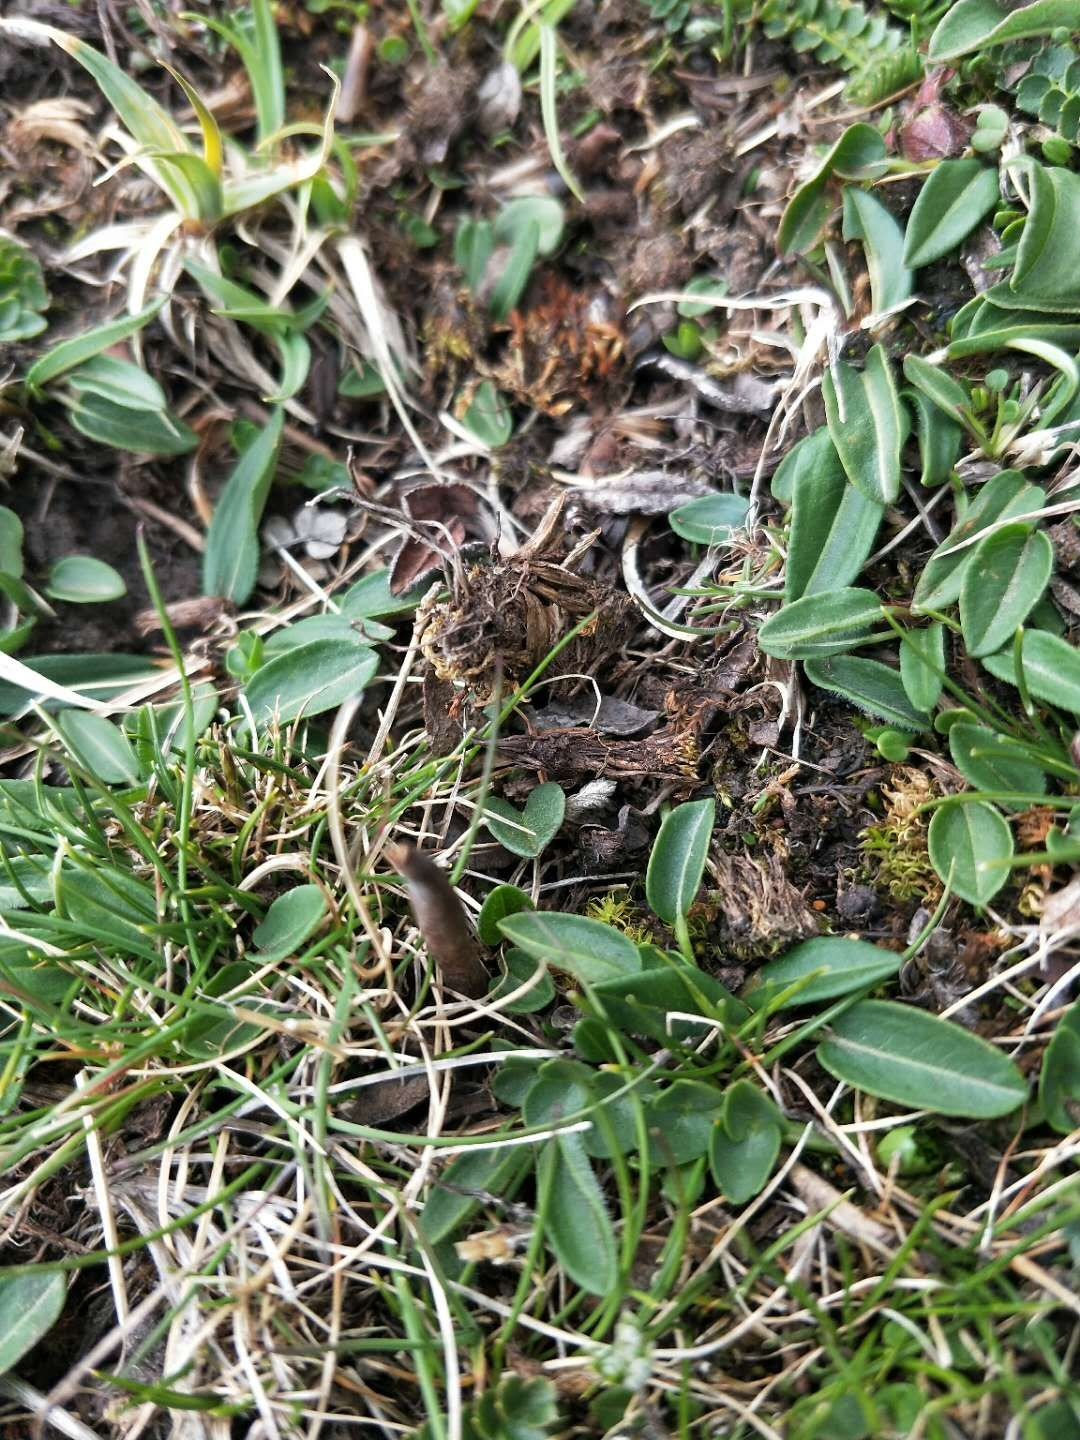Chongcao: (382, 840, 486, 988)
